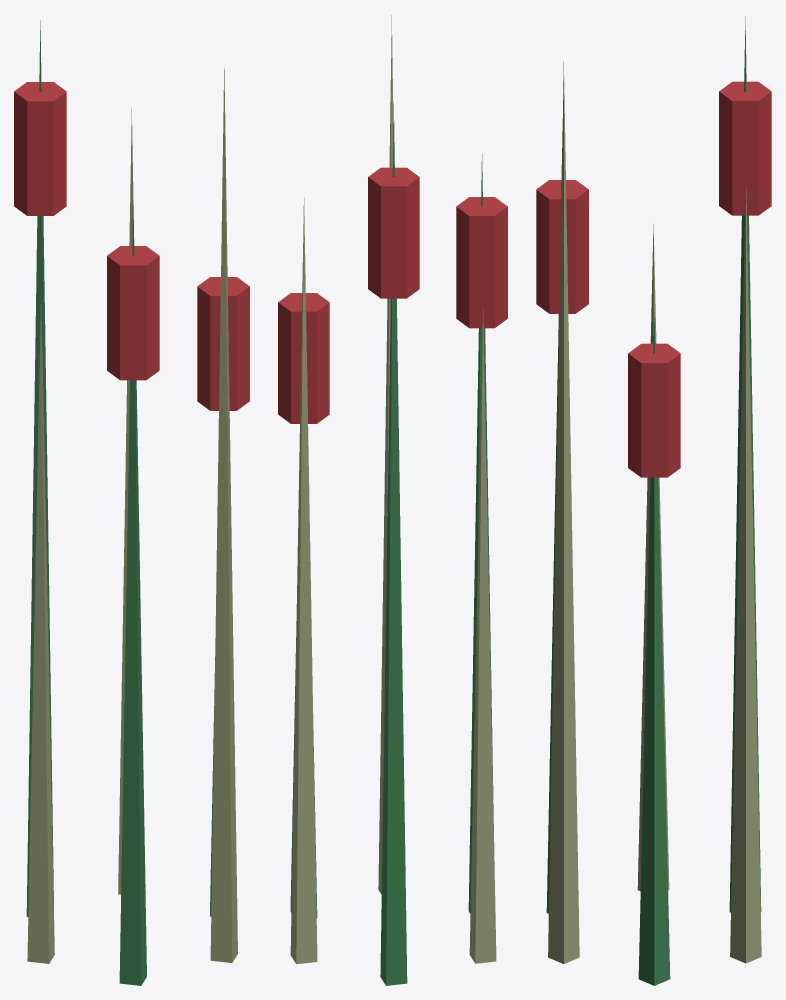
Rendered from decor_reeds.glb.
3 views of the same model, side by side, from view 1: azimuth 30°, elevation 25°; view 2: azimuth 150°, elevation 25°; view 3: azimuth 270°, elevation 25° (orthographic). The views are drawn at different scales.
Visible parts, largest first — view 1: decor_reeds; view 2: decor_reeds; view 3: decor_reeds.
Part boxes in pixels (<box>): decor_reeds: <box>14,20,249,985</box>; decor_reeds: <box>278,15,507,985</box>; decor_reeds: <box>536,16,771,985</box>.
Size of the model in its own units: 0.2366 by 0.94 by 0.2235.
